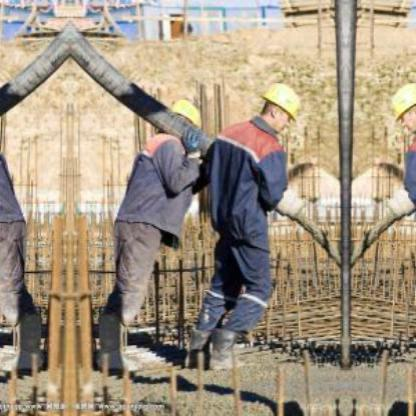Helmet: (252, 76, 306, 142), (162, 93, 210, 146), (381, 79, 415, 141)
